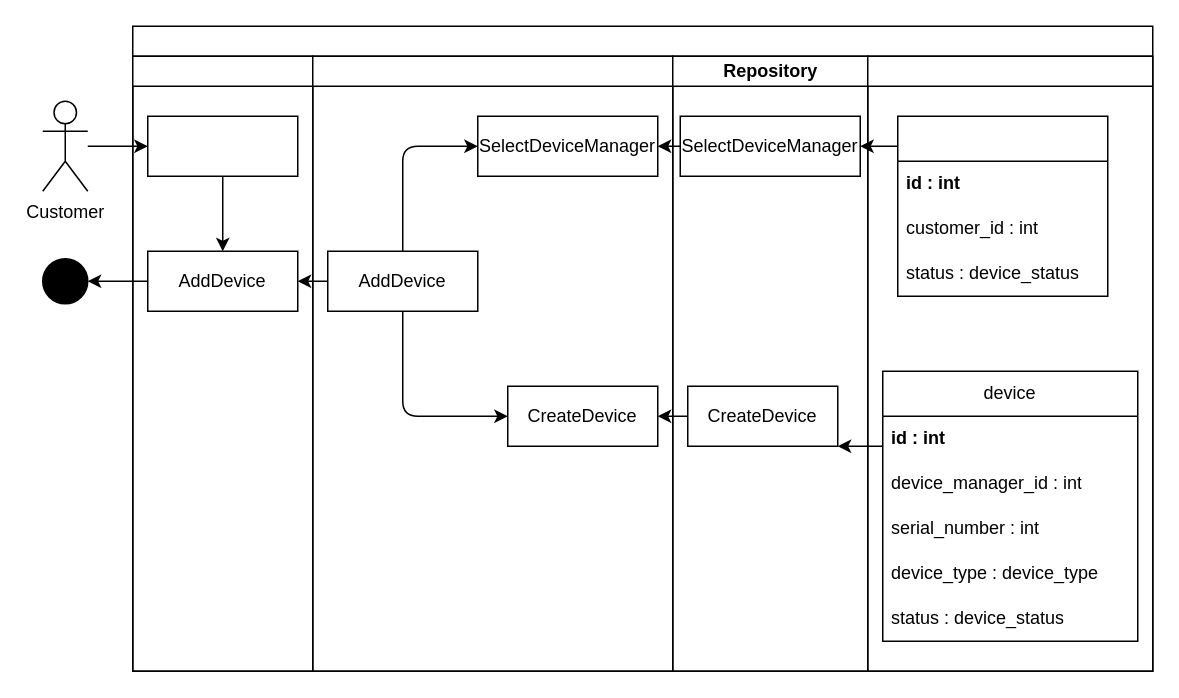
Image size: 1179x698. Some labels were removed from this diagram. Each missing label, with the box of its shape:
Business Logic: (311, 55, 673, 671)
Controller: (131, 55, 313, 671)
device_manager: (896, 115, 1108, 296)
Initialize: (146, 115, 298, 176)
Model: (866, 55, 1153, 671)
